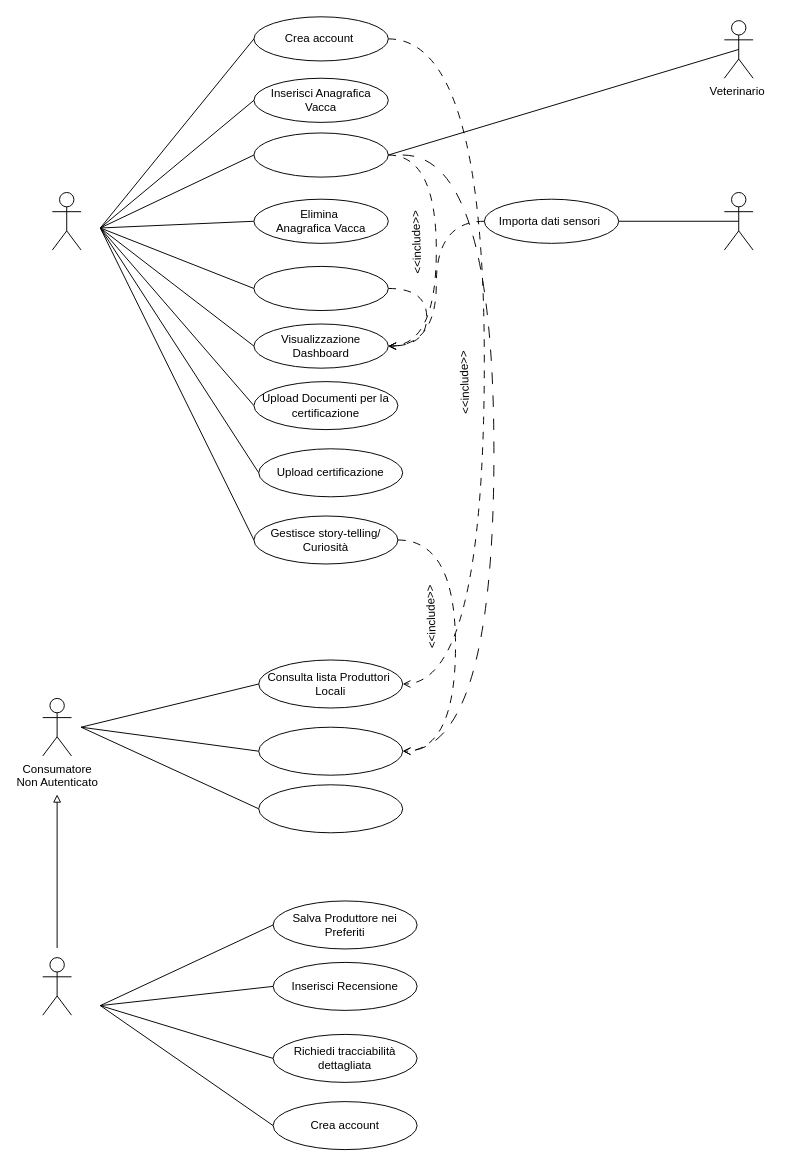
The diagram is 794 pixels wide and 1166 high, and some of its shapes have lost their labels. Here are the shapes that lost their labels. From the top down, the centre of each, then its label:
At (x=320, y=154): "Modifica Anagrafica Vacca".
At (x=66, y=221): "Allevatore".
At (x=738, y=221): "Sensori Esterni".
At (x=320, y=288): "Aggiornamento Dati Filiera".
At (x=330, y=750): "Consulta dati Prodotti (vista semplice)".
At (x=330, y=808): "Pianficia Percorso".
At (x=57, y=986): "Consumatore Autenticato".
